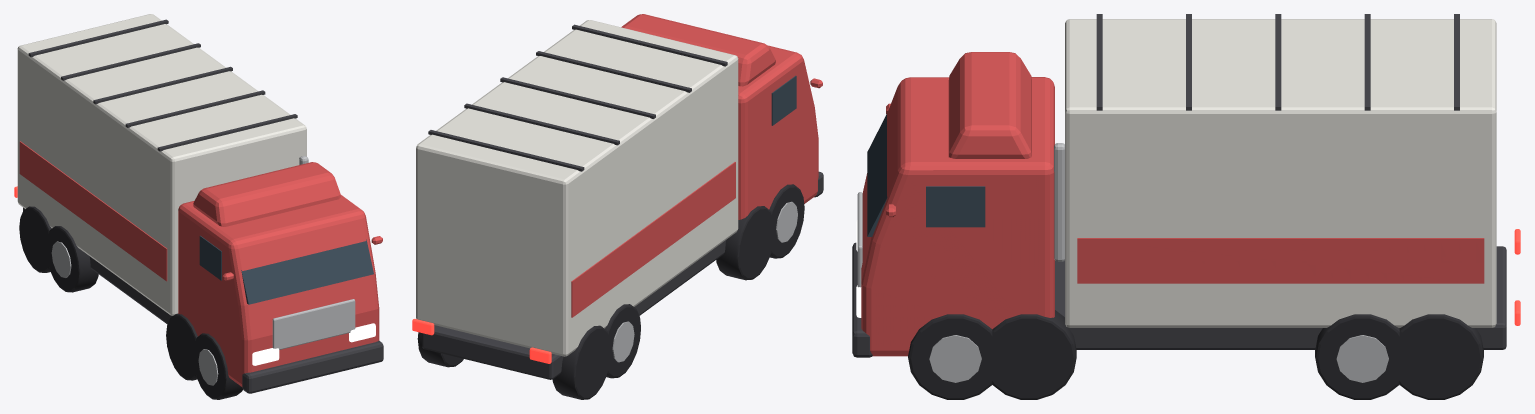
Rendered from truck.glb.
3 renders of one model, left to right at view 1: azimuth 30°, elevation 25°; view 2: azimuth 150°, elevation 25°; view 3: azimuth 270°, elevation 25°, orthographic. The views are drawn at different scales.
Visible parts, largest first — view 1: CargoBox, Cab, CabRoofSpoiler, CargoBand-1, CabGlass, BumperF.007, GrilleT, Tyre1L.007, TyreB0L, TyreB1L, Tyre0L.007, Chassis (+10 smaller); view 2: CargoBox, Cab, CargoBand-1, Chassis, CabRoofSpoiler, TyreB0L, TyreB1L, Tyre1L.007, Tyre0L.007, CabWin-1, CargoRib4, CargoRib3 (+6 smaller); view 3: CargoBox, Cab, CargoBand1, CabRoofSpoiler, Chassis, TyreB0R, TyreB1R, Tyre1R.007, Tyre0R.007, CabWin1, Rim0R.007, Rim1R.007 (+8 smaller).
Boxes of the visible parts, box(x1,y1,x2,y2) form: CargoBox: box(17, 14, 306, 315); Cab: box(178, 195, 379, 386); CabRoofSpoiler: box(193, 162, 340, 226); CargoBand-1: box(19, 141, 167, 281); CabGlass: box(241, 239, 373, 304); BumperF.007: box(242, 340, 383, 393); GrilleT: box(272, 299, 355, 349); Tyre1L.007: box(46, 226, 98, 292); TyreB0L: box(166, 313, 198, 380); TyreB1L: box(19, 206, 51, 272); Tyre0L.007: box(193, 333, 242, 399); Chassis: box(23, 207, 172, 324); CargoBox: box(416, 20, 738, 356); Cab: box(738, 45, 818, 219); CargoBand-1: box(571, 162, 735, 317); Chassis: box(422, 240, 726, 379); CabRoofSpoiler: box(621, 14, 775, 86); TyreB0L: box(716, 206, 771, 280); TyreB1L: box(552, 325, 607, 399); Tyre1L.007: box(605, 304, 640, 378); Tyre0L.007: box(768, 184, 804, 258); CabWin-1: box(771, 75, 796, 125); CargoRib4: box(428, 130, 584, 171); CargoRib3: box(464, 103, 619, 145); CargoBox: box(1065, 19, 1496, 327); Cab: box(861, 77, 1054, 356); CargoBand1: box(1077, 238, 1484, 283); CabRoofSpoiler: box(948, 52, 1031, 158); Chassis: box(1055, 246, 1506, 349); TyreB0R: box(990, 310, 1076, 399); TyreB1R: box(1397, 314, 1483, 399); Tyre1R.007: box(1315, 314, 1407, 399); Tyre0R.007: box(908, 314, 999, 399); CabWin1: box(926, 186, 985, 227); Rim0R.007: box(929, 335, 981, 382); Rim1R.007: box(1336, 335, 1388, 382).
Bounding box in the file's own units: 2.56 × 3.25 × 6.73.
